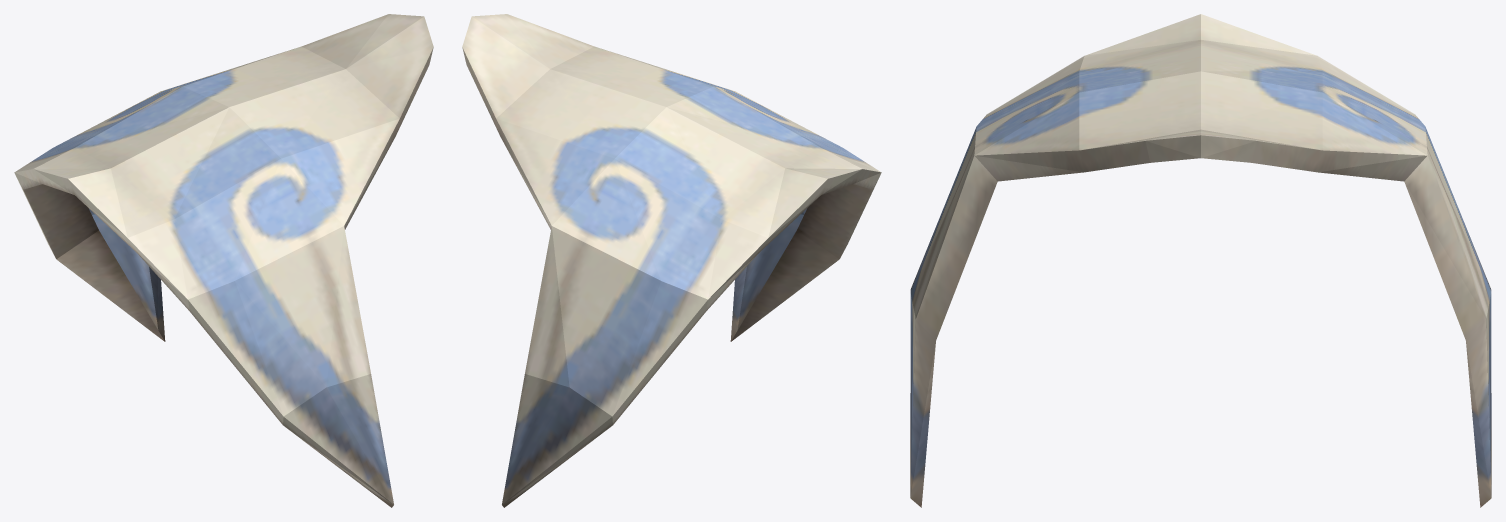
File: Sheep_waitressBand.obj
3 renders of one model, left to right at view 1: azimuth 30°, elevation 25°; view 2: azimuth 150°, elevation 25°; view 3: azimuth 270°, elevation 25°, orthographic. The views are drawn at different scales.
Parts seen in each view (by area): view 1: Sheep_waitressBand_tri; view 2: Sheep_waitressBand_tri; view 3: Sheep_waitressBand_tri.
Part boxes in pixels (x1,y1,x2,y2): Sheep_waitressBand_tri: (14, 14, 433, 507); Sheep_waitressBand_tri: (462, 14, 881, 507); Sheep_waitressBand_tri: (910, 14, 1491, 507).
Size of the model in its own units: 0.1998 by 0.2 by 0.2288.
1 material, 1 textured.
